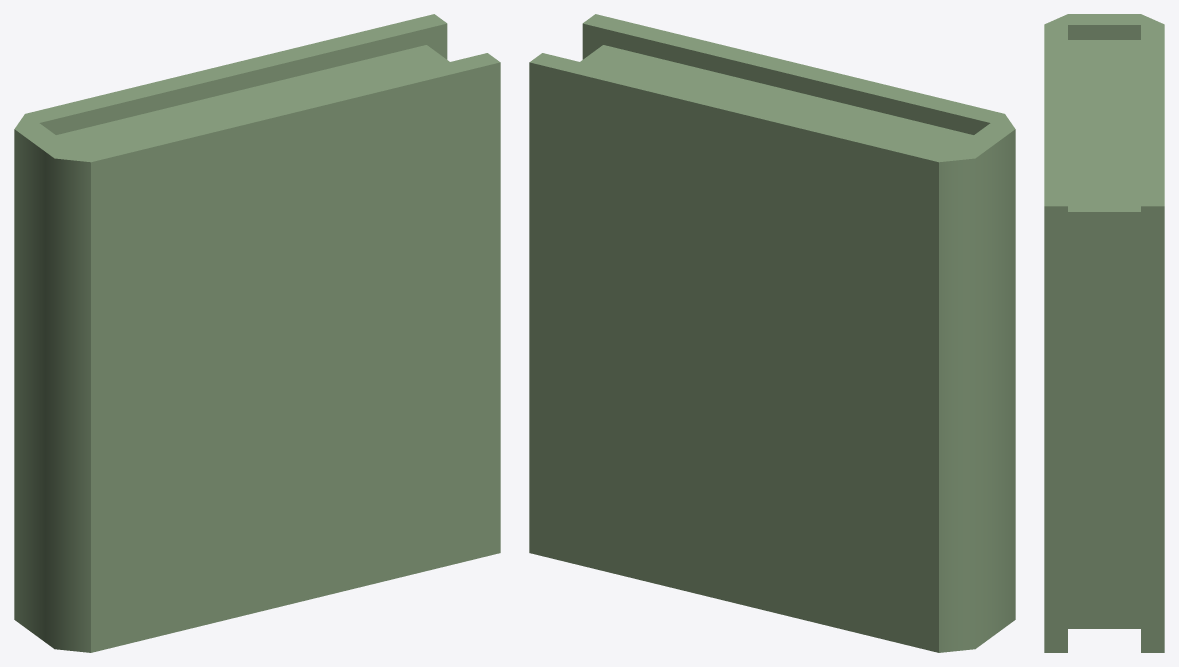
Rendered from Book_V03.fbx.
3 views of the same model, side by side, from view 1: azimuth 30°, elevation 25°; view 2: azimuth 150°, elevation 25°; view 3: azimuth 270°, elevation 25° (orthographic). The views are drawn at different scales.
Visible parts, largest first — view 1: Book_V3; view 2: Book_V3; view 3: Book_V3.
Part boxes in pixels (box(x1,y1,x2,y2)): Book_V3: box(14, 14, 500, 652); Book_V3: box(529, 14, 1015, 652); Book_V3: box(1044, 14, 1164, 652).
Size of the model in its own units: 21.97 by 23.79 by 5.81.
